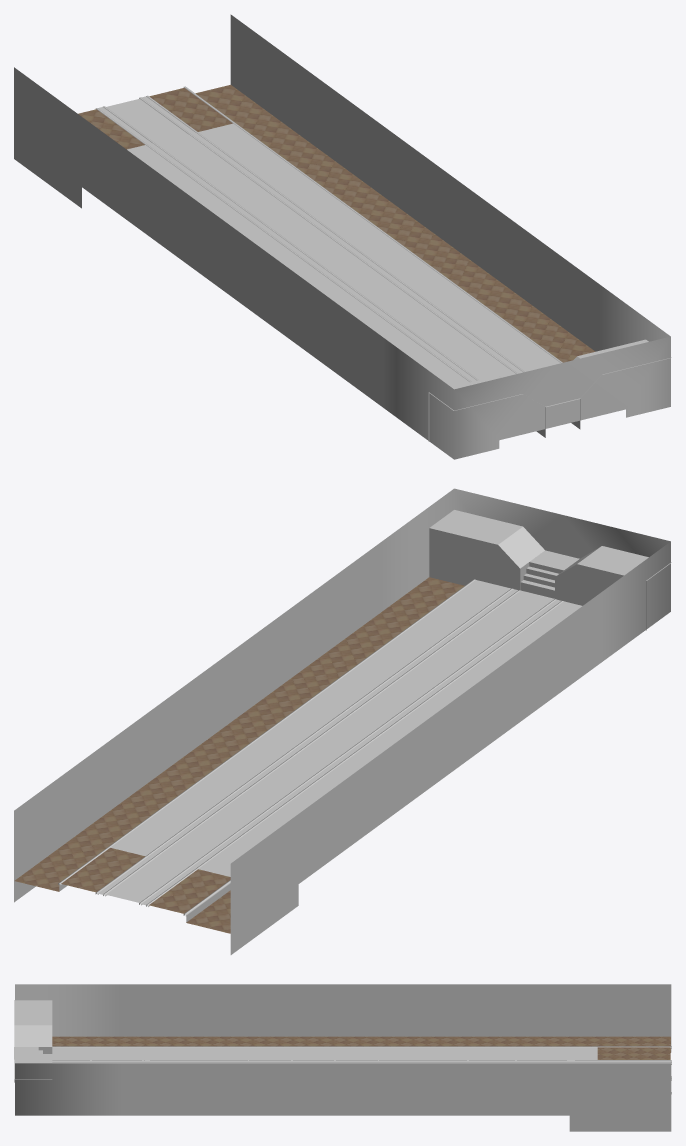
File: mesh_Gl_knt01_ground_01.FBX
3 renders of one model, top to bottom at view 1: azimuth 30°, elevation 25°; view 2: azimuth 150°, elevation 25°; view 3: azimuth 270°, elevation 25°, orthographic. The views are drawn at different scales.
Parts seen in each view (by area): view 1: Object022, Plane001, Object018, Object019; view 2: Object022, Plane001, Object018, Object019, Object020; view 3: Object022, Plane001, Object018, Object019.
Boxes of the visible parts, x1,y1,x2,y2 form: Object022: (14,14,671,459); Plane001: (127,123,560,386); Object018: (78,84,595,362); Object019: (95,86,562,382); Object022: (14,488,671,954); Plane001: (110,580,581,876); Object018: (14,577,464,933); Object019: (58,579,563,922); Object020: (520,550,579,598); Object022: (14,984,671,1131); Plane001: (52,1047,597,1062); Object018: (52,1036,670,1059); Object019: (52,1046,671,1094).
Bounding box in the file's own units: 5154 × 2075 × 18071.
